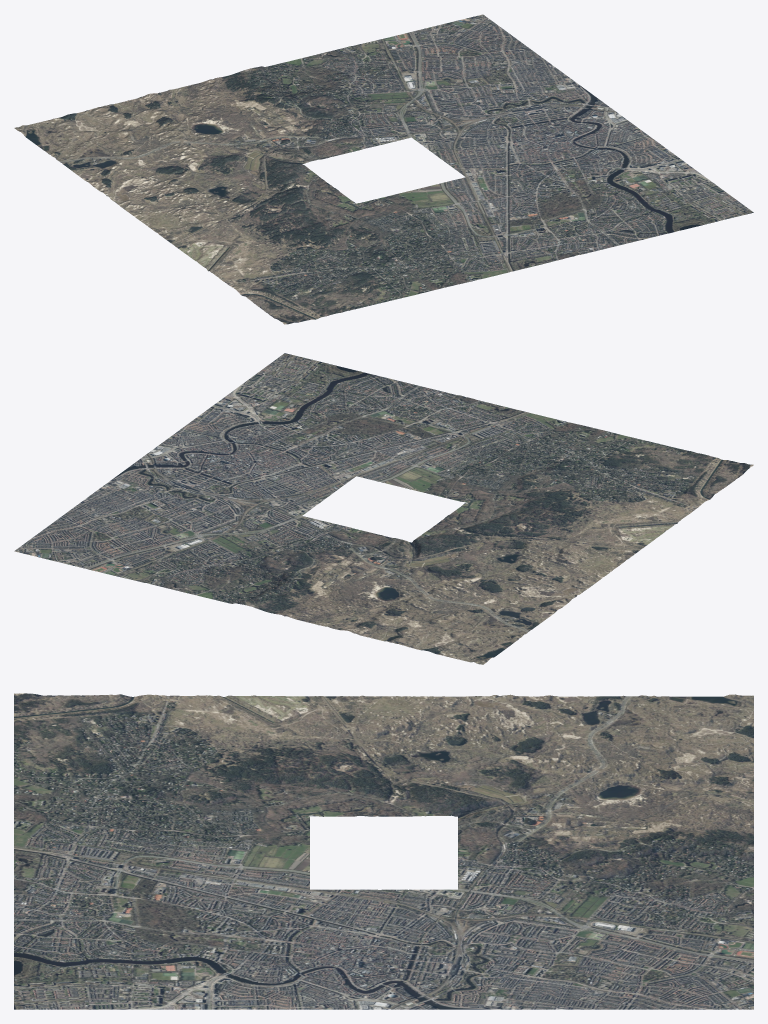
The model's file is context_terrain.glb.
3 views of the same model, one above another, from view 1: azimuth 30°, elevation 25°; view 2: azimuth 150°, elevation 25°; view 3: azimuth 270°, elevation 25° (orthographic). The views are drawn at different scales.
Parts seen in each view (by area): view 1: omgeving_terrein; view 2: omgeving_terrein; view 3: omgeving_terrein.
Boxes of the visible parts, x1,y1,x2,y2 form: omgeving_terrein: (14,14,753,324); omgeving_terrein: (14,353,753,664); omgeving_terrein: (14,693,753,1009).
Bounding box in the file's own units: 6000 × 50.17 × 6000.
Materials: 1 (1 with a texture image).
